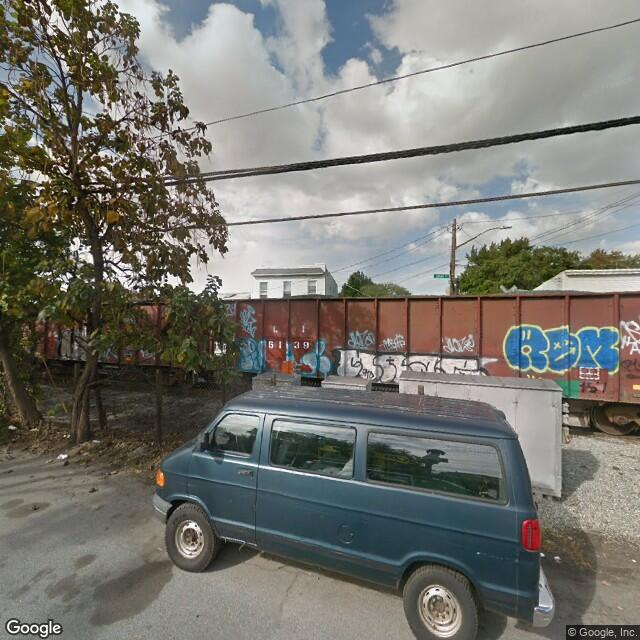litter: (53, 453, 72, 463), (88, 438, 103, 446), (551, 553, 564, 562), (28, 427, 42, 433), (8, 424, 17, 432), (147, 440, 155, 448), (61, 434, 71, 440), (632, 557, 637, 566), (540, 551, 544, 562)
